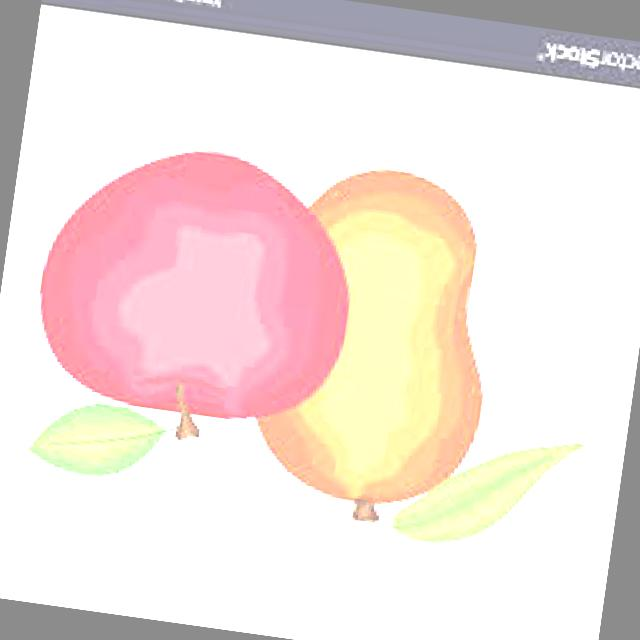Apple: (21, 130, 367, 436)
Mango: (243, 158, 510, 523)
